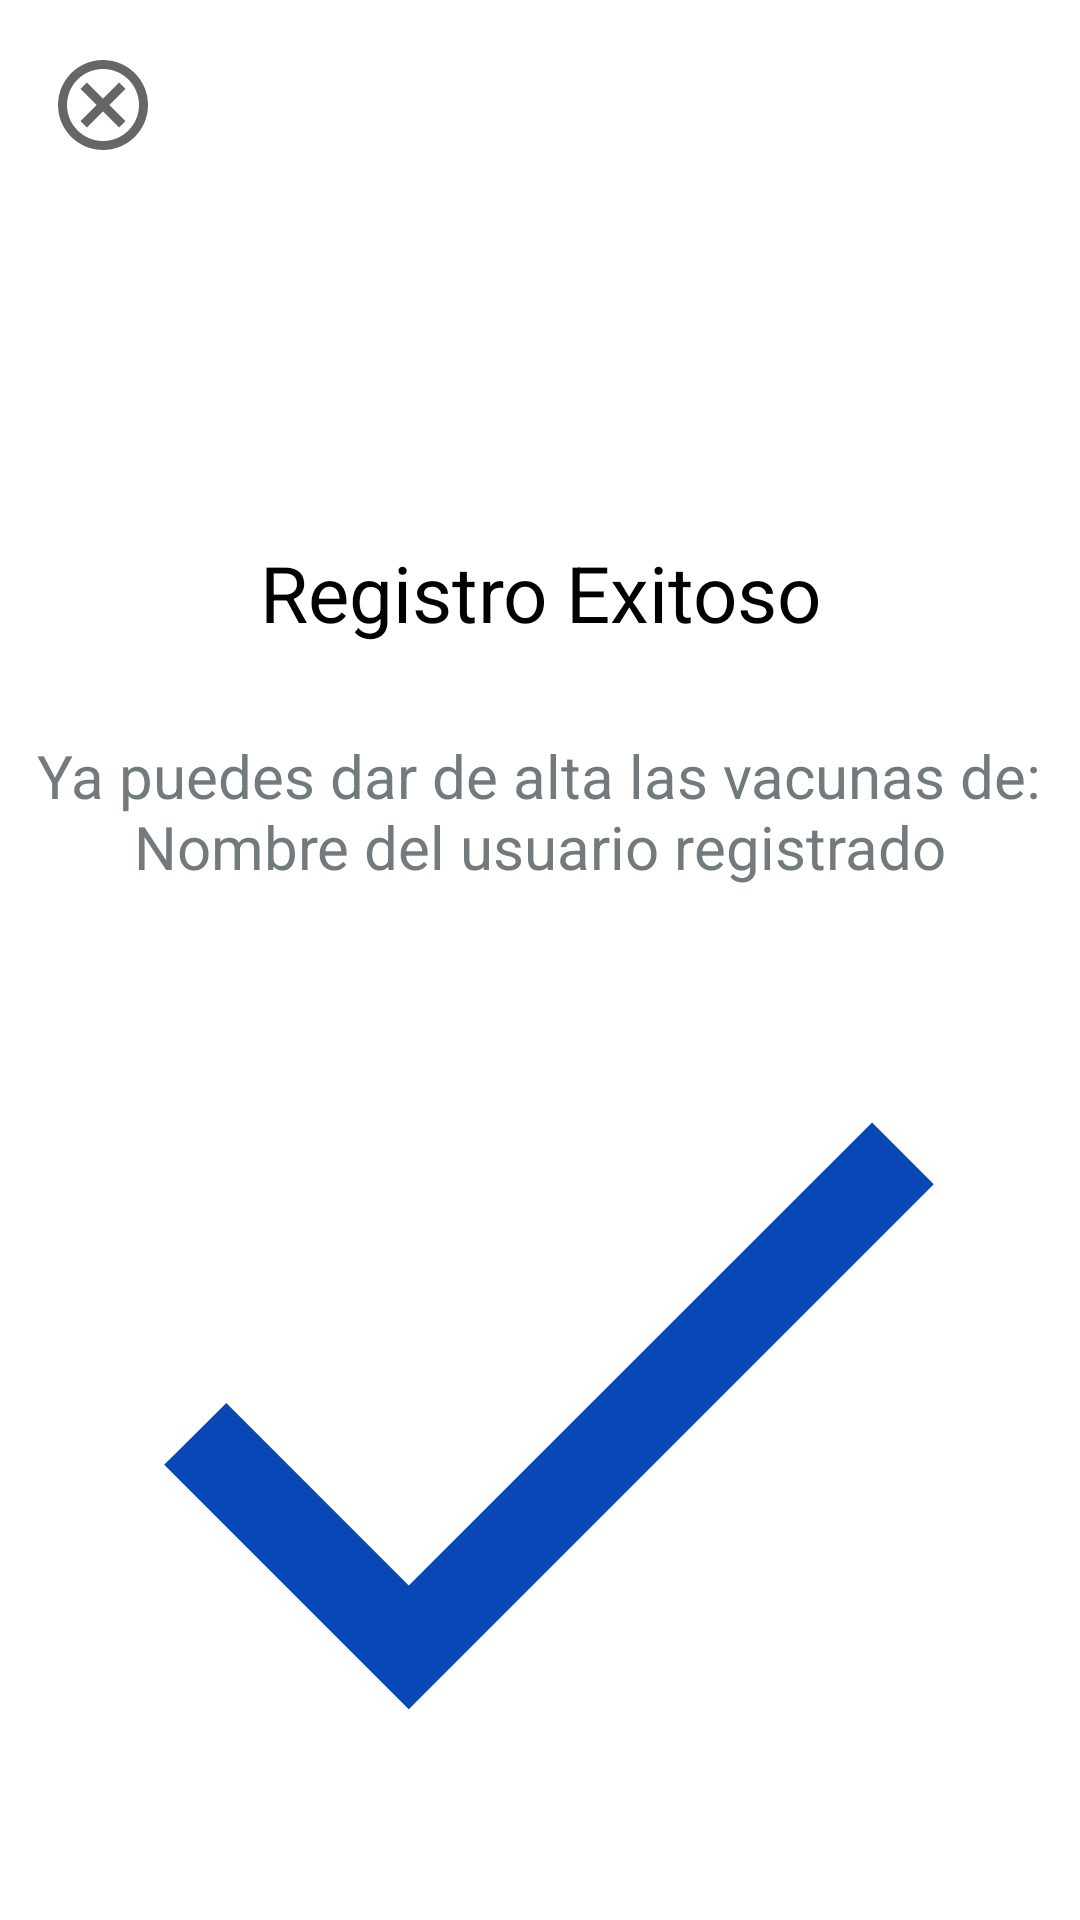

Point at icon controls on the screen. Image size 1080px×1920px, points as (x,y).
Cancelar: (103,105)
